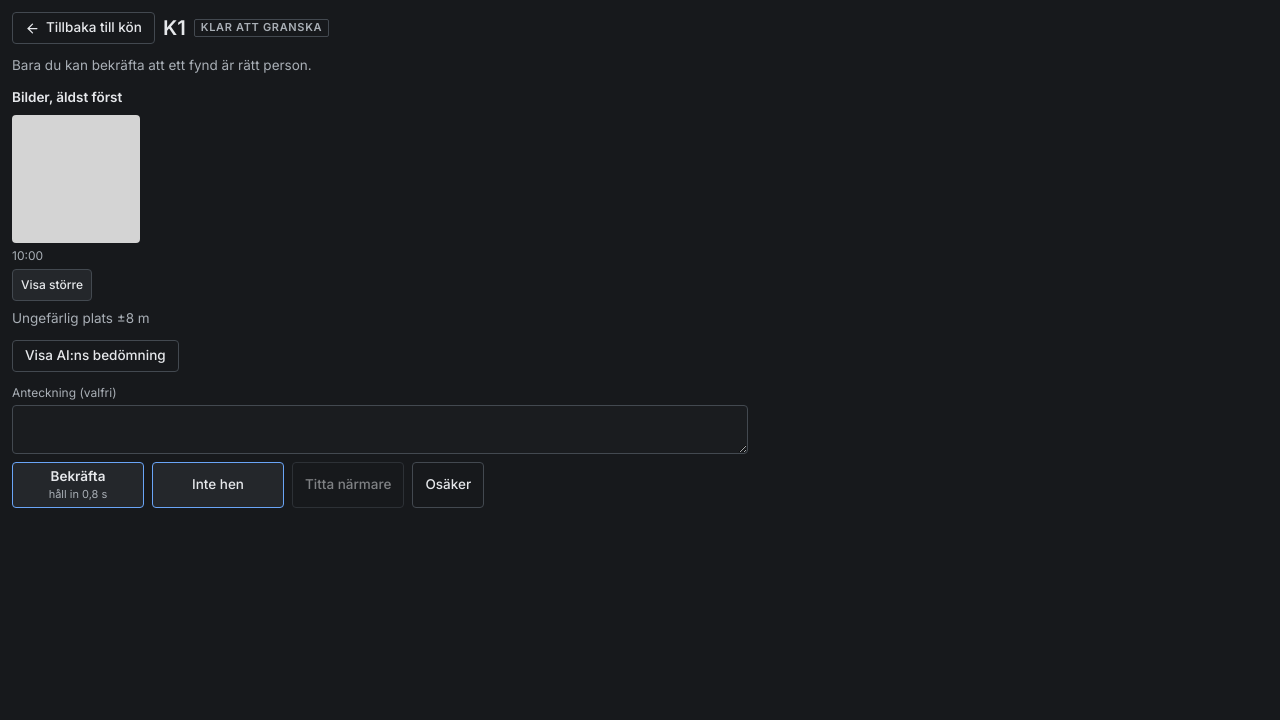
CandidatesView › confirms after the hold and the question, then shows the position three ways
The width and height of the screenshot is (1280, 720).
Expected: the button with test id "cand-larger" is shown, [12,268,92,300]
Press the mouse on the button with test id "cand-confirm" at point(78, 485), box [12,462,144,508]
Wait 800 ms
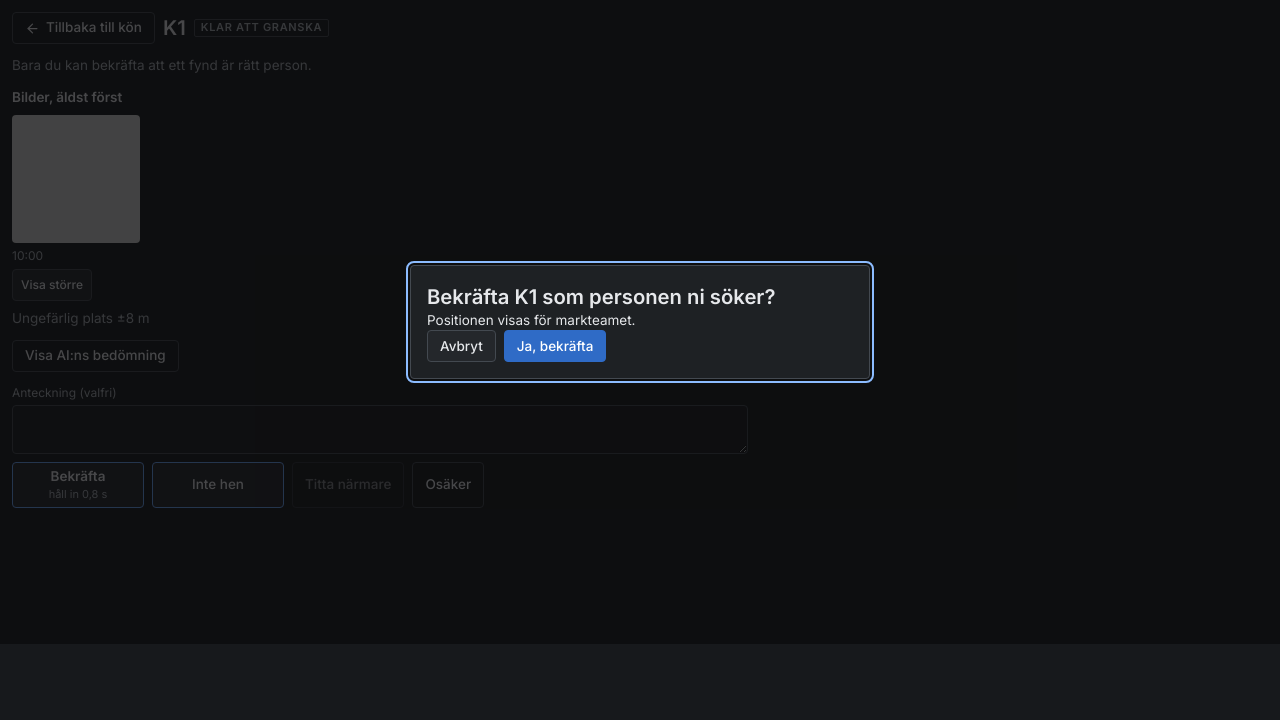
Now the dialog with test id "cand-confirm-dialog" shows "Bekräfta K1 som personen ni söker?", box [427,284,775,308]
Now the dialog with test id "cand-confirm-dialog" shows "Positionen visas för markteamet.", box [427,312,636,328]
Click the button with test id "cand-confirm-yes" at point(555, 346), box [504,330,606,362]
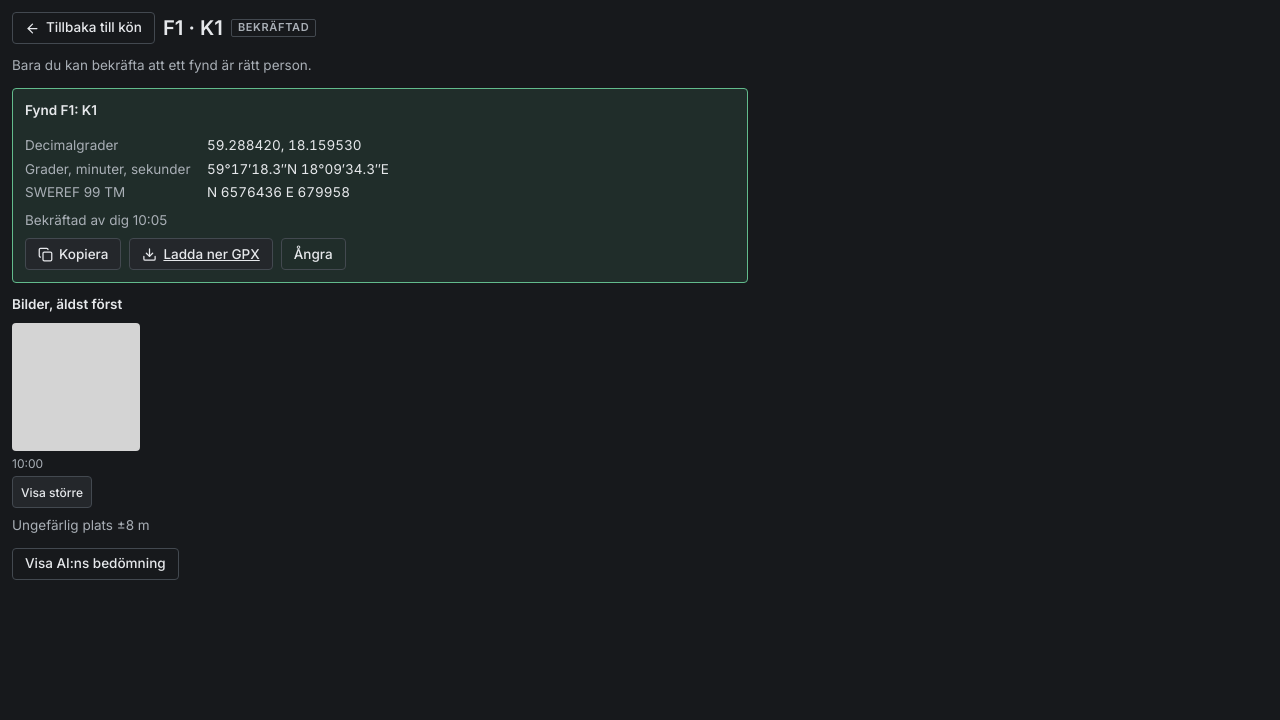
Now the element with test id "cand-found" is shown, box [12,88,748,283]
Now the text with test id "cand-coord-decimal" reads "59.288420, 18.159530", box [207,137,362,153]
Now the text with test id "cand-coord-dms" reads "59°17′18.3″N 18°09′34.3″E", box [207,161,389,177]
